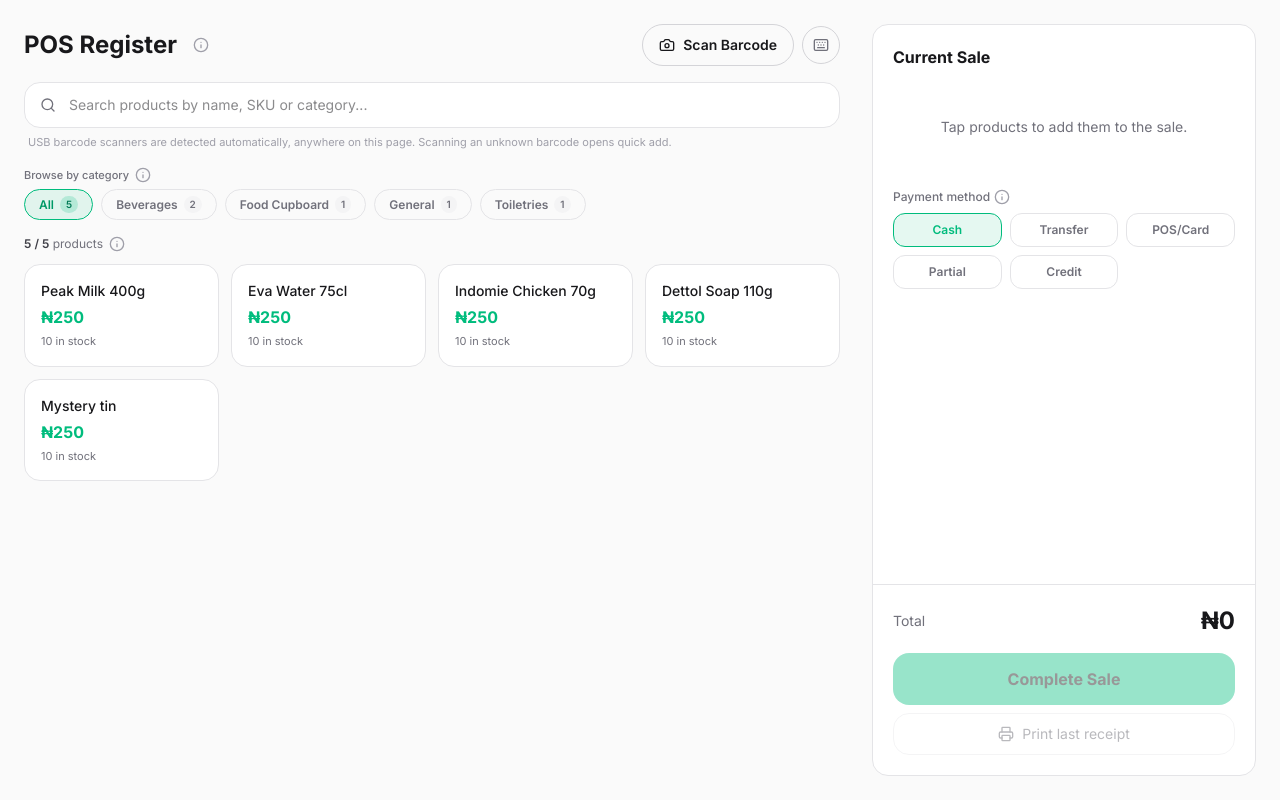
Test case: POS: category filters › filters the grid to the selected category and counts it
The image size is (1280, 800).
Expected: the text "Peak Milk 400g" is shown, [41,281,145,301]
Click the button "Beverages 2".
click(159, 205)  # box [101,189,217,220]
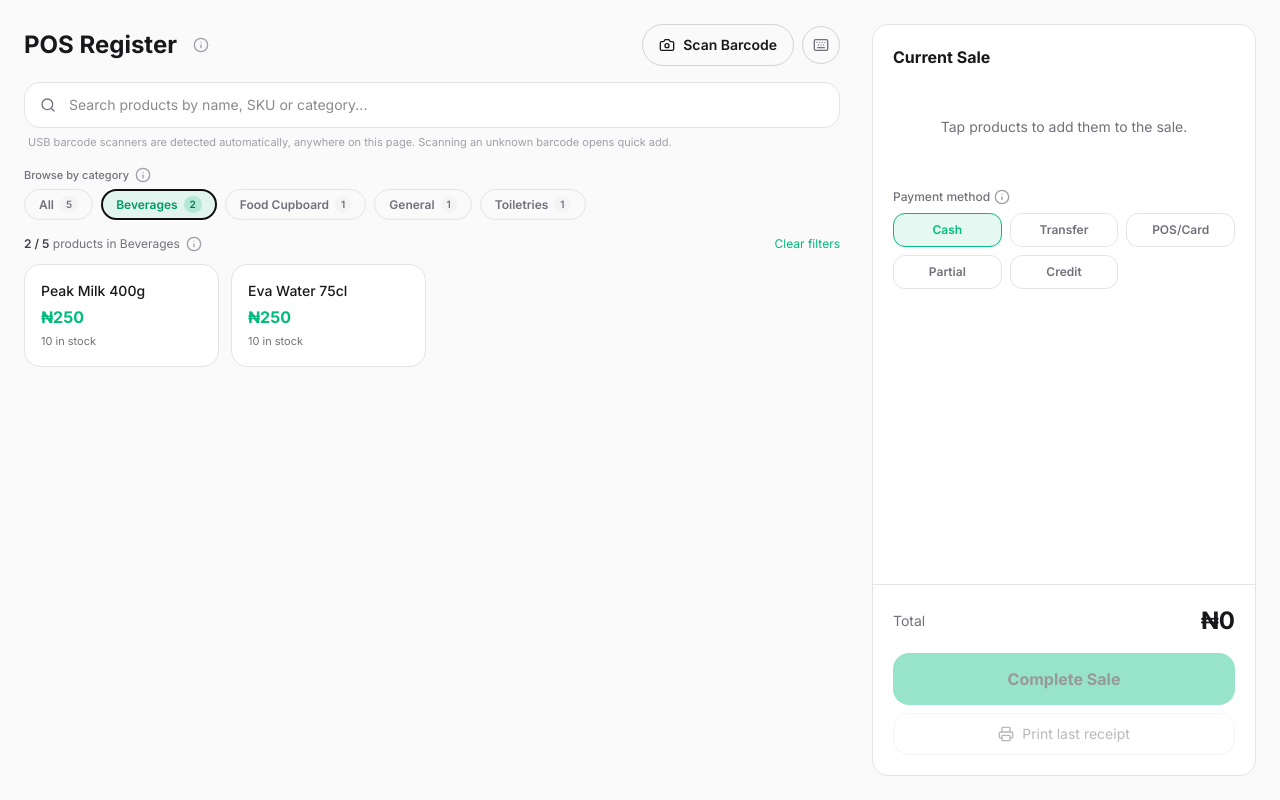
Expected: the text "Peak Milk 400g" is shown, [41,281,145,301]
Now the button "Dettol Soap 110g" is gone
Now the message reads "2 / 5 products in Beverages", box [24,236,180,252]
